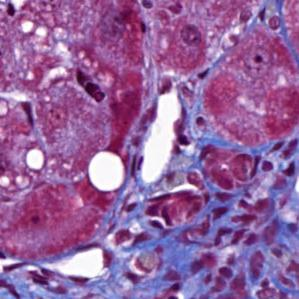inflammation: (249, 135, 298, 186), (70, 64, 109, 106), (18, 95, 39, 132)
